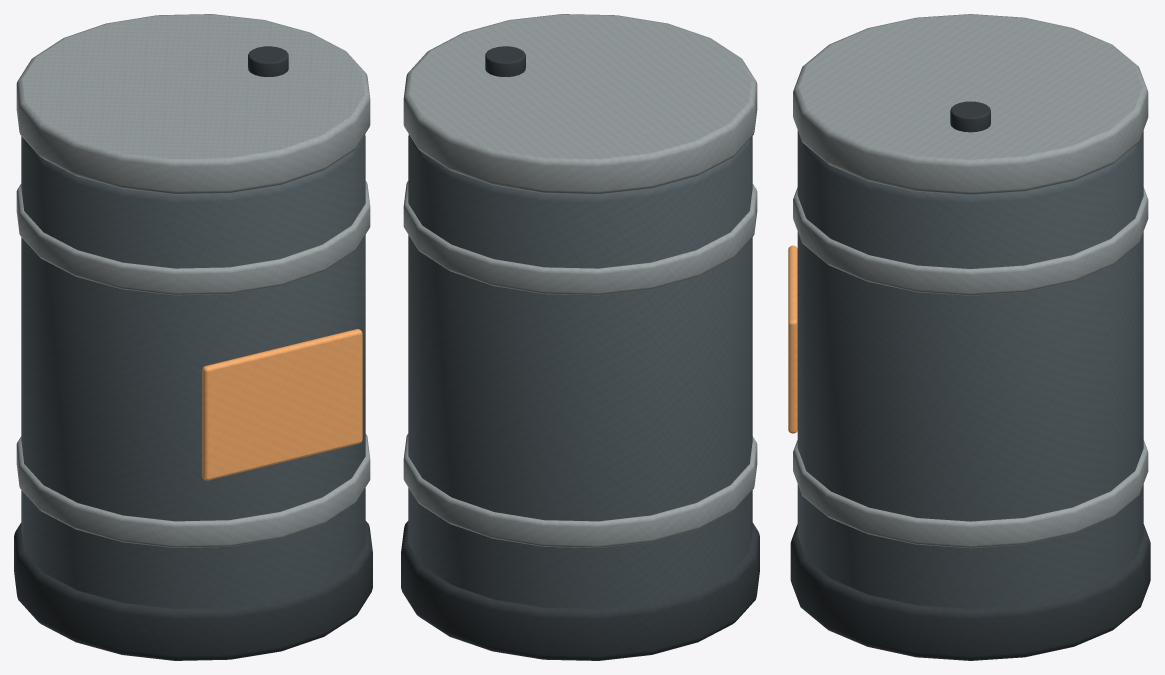
The model's file is StorageDrum.glb.
3 renders of one model, left to right at view 1: azimuth 30°, elevation 25°; view 2: azimuth 150°, elevation 25°; view 3: azimuth 270°, elevation 25°, orthographic.
Parts seen in each view (by area): view 1: StorageDrum_Mesh; view 2: StorageDrum_Mesh; view 3: StorageDrum_Mesh.
Boxes of the visible parts, box(x1,y1,x2,y2) form: StorageDrum_Mesh: box(14, 14, 372, 660); StorageDrum_Mesh: box(401, 14, 759, 660); StorageDrum_Mesh: box(788, 14, 1150, 660).
Bounding box in the file's own units: 0.75 × 1.18 × 0.755.
4 materials, 4 textured.
